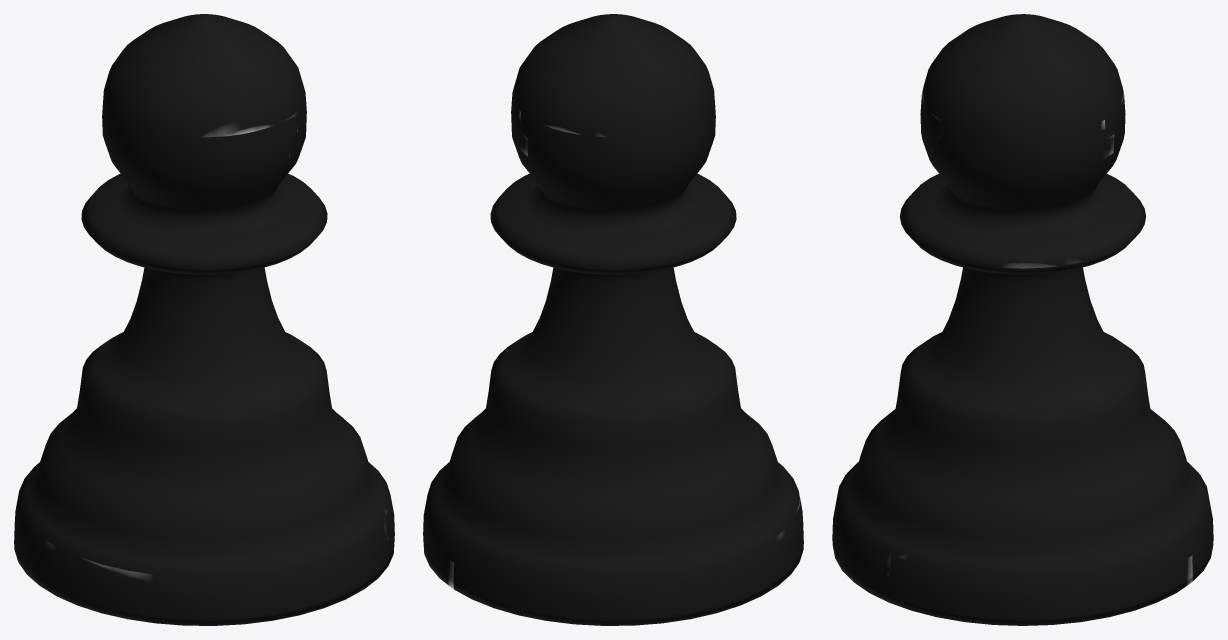
The model's file is PawnBlack.fbx.
3 renders of one model, left to right at view 1: azimuth 30°, elevation 25°; view 2: azimuth 150°, elevation 25°; view 3: azimuth 270°, elevation 25°, orthographic.
Parts seen in each view (by area): view 1: pCylinder2.002; view 2: pCylinder2.002; view 3: pCylinder2.002.
Boxes of the visible parts, bbox=[...] form: pCylinder2.002: bbox=[14, 14, 394, 625]; pCylinder2.002: bbox=[423, 14, 803, 625]; pCylinder2.002: bbox=[832, 14, 1213, 625].
Size of the model in its own units: 1.73 by 2.67 by 1.73.
